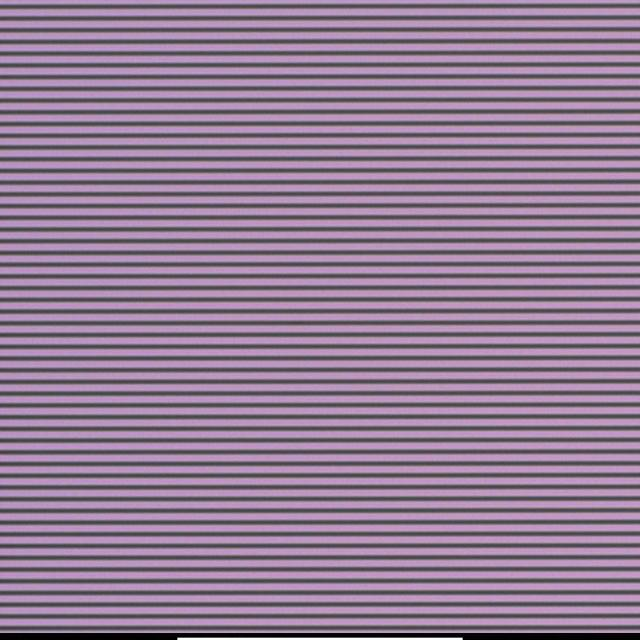nonvisual: (327, 279, 332, 283)
